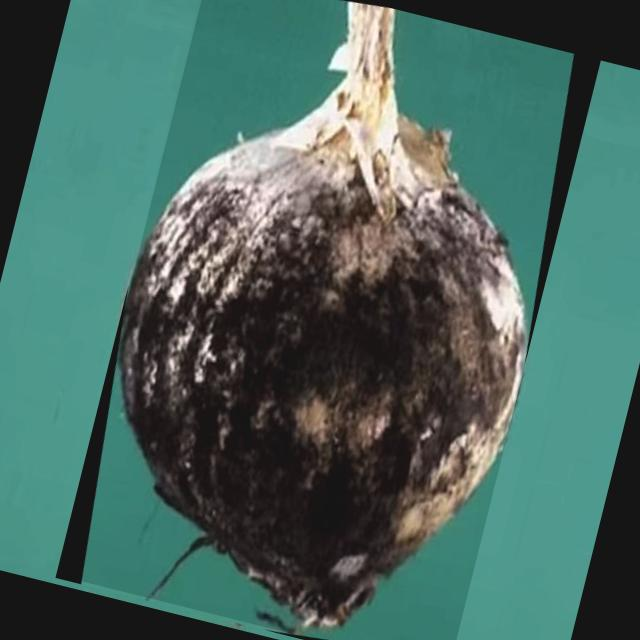mould: (118, 1, 526, 633)
